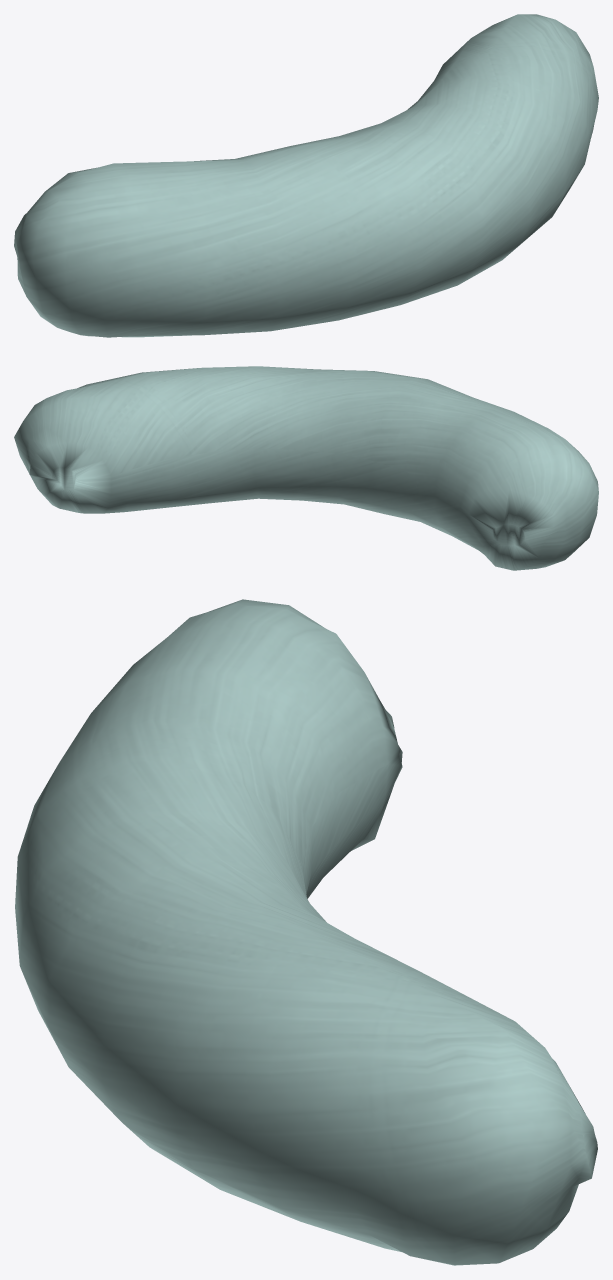
The model's file is ref_sausage.fbx.
The picture shows the model from 3 angles, top to bottom: view 1: azimuth 30°, elevation 25°; view 2: azimuth 150°, elevation 25°; view 3: azimuth 270°, elevation 25°; orthographic projection. The views are drawn at different scales.
Visible parts, largest first — view 1: ref_sausage; view 2: ref_sausage; view 3: ref_sausage.
Part boxes in pixels (x1,y1,x2,y2): ref_sausage: (14, 14, 598, 337); ref_sausage: (14, 366, 598, 570); ref_sausage: (15, 599, 597, 1265).
Bounding box in the file's own units: 100 × 23.62 × 49.63.
